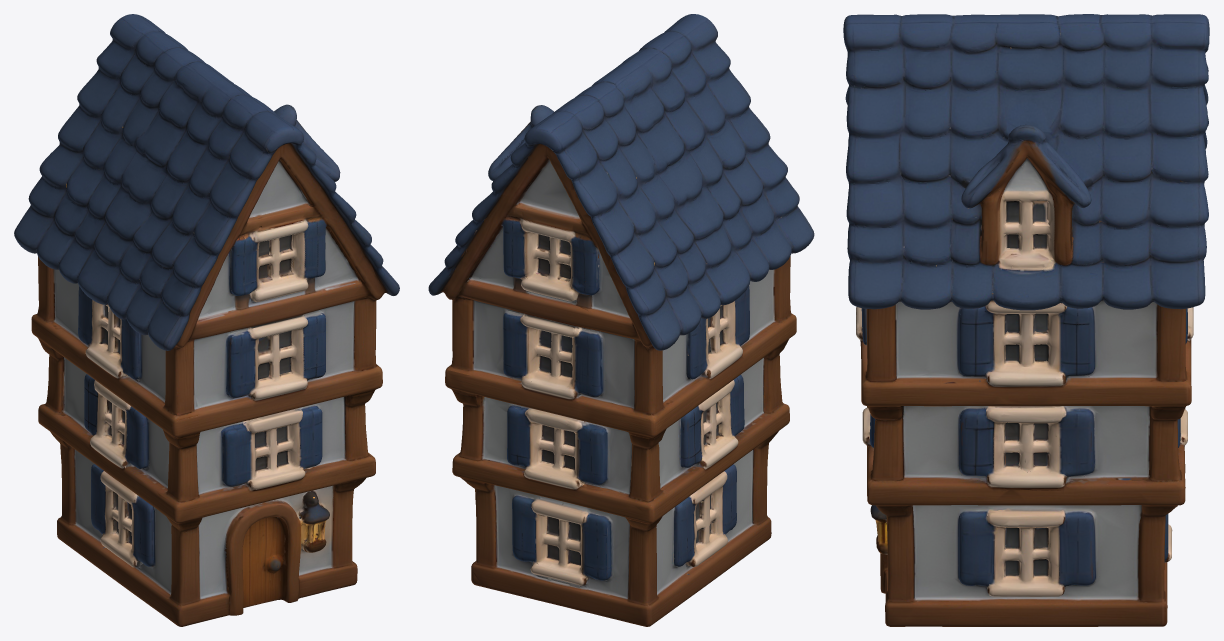
Rendered from ck_house_b.glb.
The picture shows the model from 3 angles, left to right: view 1: azimuth 30°, elevation 25°; view 2: azimuth 150°, elevation 25°; view 3: azimuth 270°, elevation 25°; orthographic projection. The views are drawn at different scales.
Parts seen in each view (by area): view 1: ck_house_b; view 2: ck_house_b; view 3: ck_house_b.
Boxes of the visible parts, <box> form: ck_house_b: <box>14,14,399,626</box>; ck_house_b: <box>428,14,814,626</box>; ck_house_b: <box>843,14,1209,626</box>.
Size of the model in its own units: 1 by 1.97 by 1.17.
Materials: 1 (1 with a texture image).
